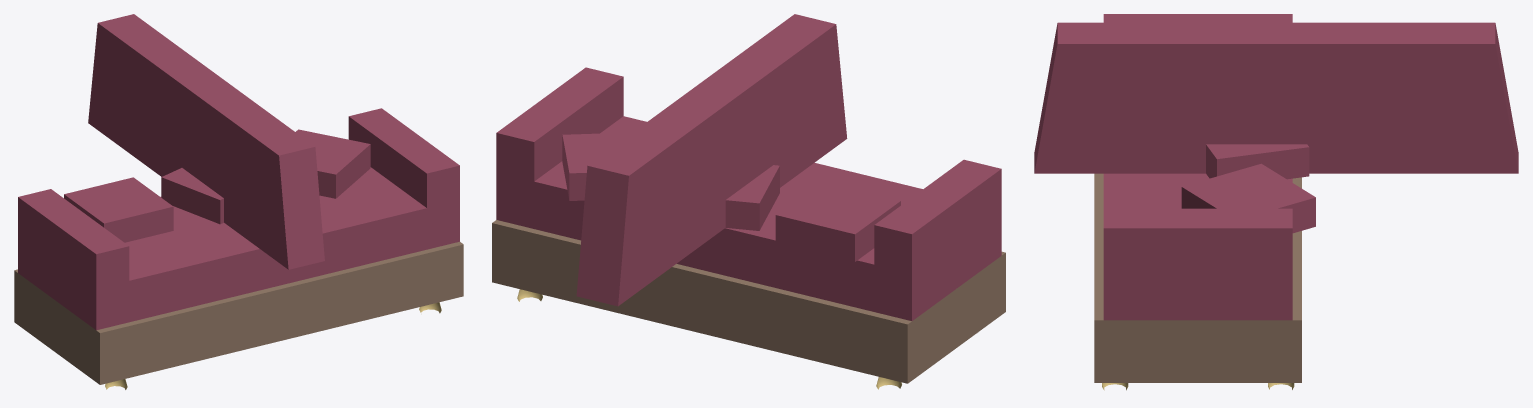
File: casSofa.glb
3 renders of one model, left to right at view 1: azimuth 30°, elevation 25°; view 2: azimuth 150°, elevation 25°; view 3: azimuth 270°, elevation 25°, orthographic. The views are drawn at different scales.
Parts seen in each view (by area): view 1: lounge-sofa; view 2: lounge-sofa; view 3: lounge-sofa.
Part boxes in pixels (left/top/right/bottom): lounge-sofa: left=14, top=14, right=463, bottom=389; lounge-sofa: left=492, top=14, right=1005, bottom=389; lounge-sofa: left=1034, top=14, right=1518, bottom=390.
Bounding box in the file's own units: 2.2 × 1.26 × 2.1.
